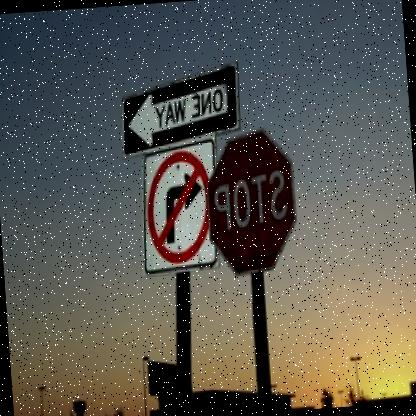stop: (201, 122, 307, 276)
